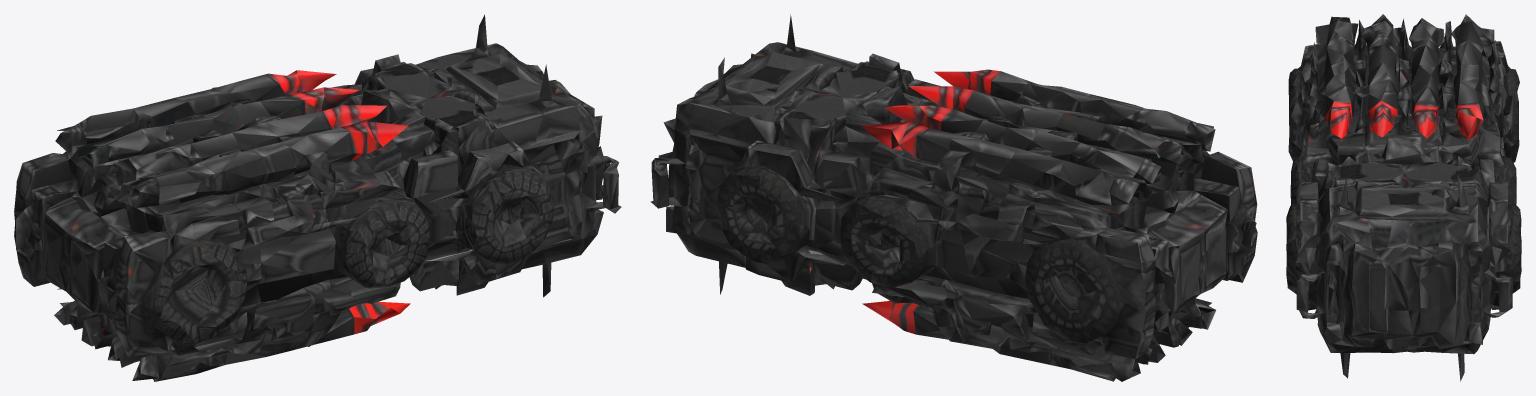
Rendered from fh_ground_sam_meshy.glb.
3 renders of one model, left to right at view 1: azimuth 30°, elevation 25°; view 2: azimuth 150°, elevation 25°; view 3: azimuth 270°, elevation 25°, orthographic. The views are drawn at different scales.
Parts seen in each view (by area): view 1: GLTF; view 2: GLTF; view 3: GLTF.
Part boxes in pixels (bbox=[...]): GLTF: bbox=[14, 14, 621, 381]; GLTF: bbox=[650, 14, 1257, 381]; GLTF: bbox=[1286, 14, 1521, 381].
Size of the model in its own units: 1 by 0.4414 by 0.4565.
1 material, 1 textured.
